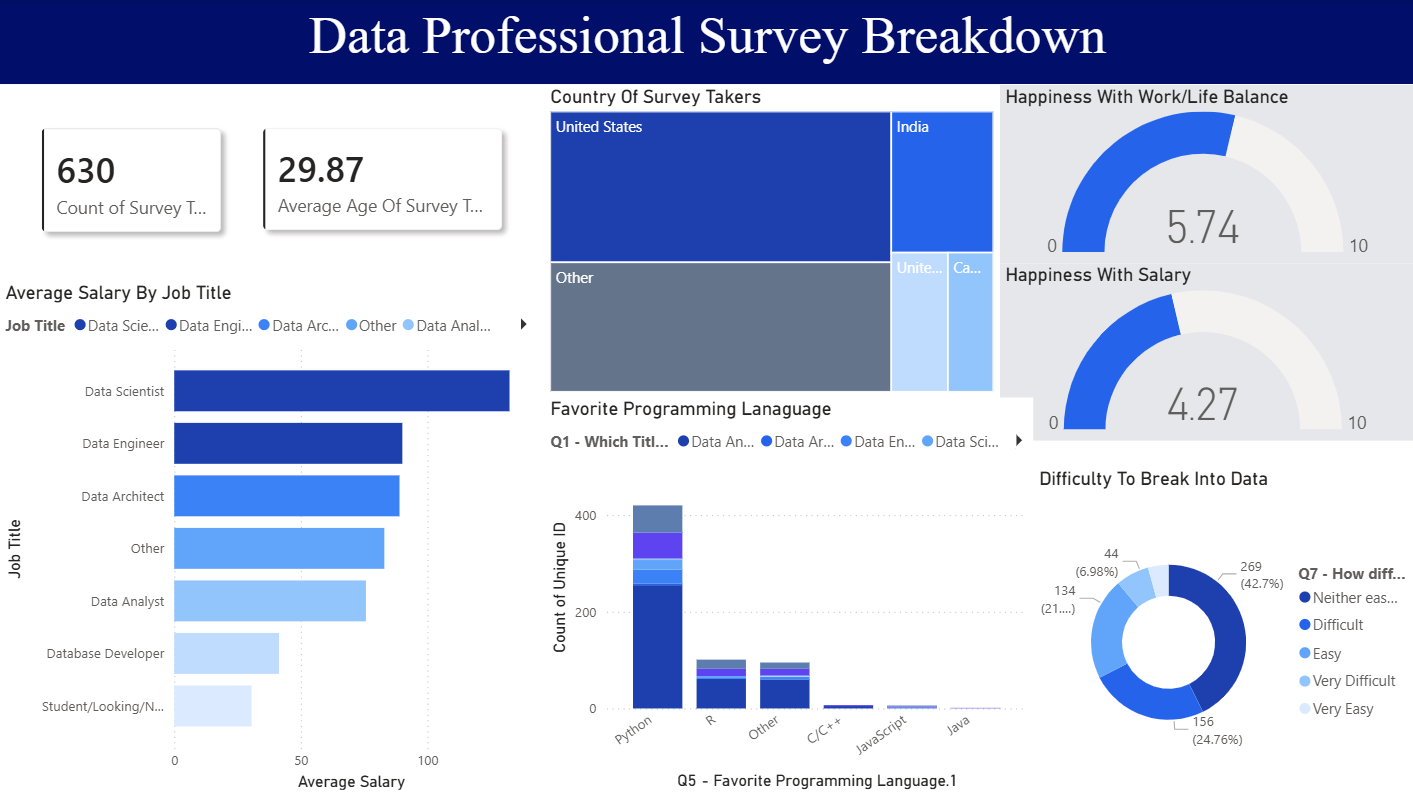

What the dashboard file says about the page in this screenshot:
{"tool":"powerbi","page":{"name":"Page 1","canvas":[1280,720],"ordinal":0},"visuals":[{"type":"textbox","box":[0,0,1279.9,75.8],"z":0},{"type":"cardVisual","fields":{"Data":["Count(Data Professional Survey.Unique ID)"]},"box":[9.3,86.7,220,152],"z":1000},{"type":"cardVisual","fields":{"Data":["Avg(Data Professional Survey.Q10 - Current Age)"]},"box":[209.3,86.7,274.7,150.7],"z":2000},{"type":"barChart","title":"Average Salary By Job Title","fields":{"Category":["Data Professional Survey.Q1 - Which Title Best Fits your Current Role?.1"],"Y":["Avg(Data Professional Survey.Averge_Salary)"],"Series":["Data Professional Survey.Q1 - Which Title Best Fits your Current Role?.1"]},"box":[0,254.7,493.3,465.3],"z":3000},{"type":"treemap","title":"Country Of Survey Takers","fields":{"Group":["Data Professional Survey.Q11 - Which Country do you live in?.1"],"Values":["CountNonNull(Data Professional Survey.Q11 - Which Country do you live in?.1)"]},"box":[493.3,77.3,410.7,282.7],"z":4000},{"type":"gauge","title":"Happiness With Work/Life Balance","fields":{"Y":["Avg(Data Professional Survey.Q6 - How Happy are you in your Current Position with the following? (Work/Life Balance))"],"MinValue":["Min(Data Professional Survey.Q6 - How Happy are you in your Current Position with the following? (Work/Life Balance))"],"MaxValue":["Max(Data Professional Survey.Q6 - How Happy are you in your Current Position with the following? (Work/Life Balance))"]},"box":[904,77.3,376,161.3],"z":5000},{"type":"gauge","title":"Happiness With Salary ","fields":{"Y":["Avg(Data Professional Survey.Q6 - How Happy are you in your Current Position with the following? (Salary))"],"MinValue":["Min(Data Professional Survey.Q6 - How Happy are you in your Current Position with the following? (Salary))"],"MaxValue":["Max(Data Professional Survey.Q6 - How Happy are you in your Current Position with the following? (Salary))1"]},"box":[904,238.7,376,160],"z":6000},{"type":"donutChart","title":"Difficulty To Break Into Data","fields":{"Category":["Data Professional Survey.Q7 - How difficult was it for you to break into Data?","Data Professional Survey.Q9 - Male/Female?"],"Y":["CountNonNull(Data Professional Survey.Q7 - How difficult was it for you to break into Data?)"]},"box":[934.7,422.7,345.3,297.3],"z":7000},{"type":"columnChart","title":"Favorite Programming Lanaguage","fields":{"Category":["Data Professional Survey.Q5 - Favorite Programming Language.1"],"Y":["CountNonNull(Data Professional Survey.Unique ID)"],"Series":["Data Professional Survey.Q1 - Which Title Best Fits your Current Role?.1"]},"box":[493.3,360,441.3,360],"z":8000}]}

Visuals, with their boxes in screenshot pixels (x1, y1, x2, y2), scaled from the page's 1280x720 canvas onto the 1413x795 screenshot:
textbox: bbox=(0, 0, 1412, 84)
cardVisual - Count(Data Professional Survey.Unique ID): bbox=(10, 96, 253, 264)
cardVisual - Avg(Data Professional Survey.Q10 - Current Age): bbox=(231, 96, 534, 262)
"Average Salary By Job Title" barChart: bbox=(0, 281, 545, 794)
"Country Of Survey Takers" treemap: bbox=(545, 85, 998, 398)
"Happiness With Work/Life Balance" gauge: bbox=(998, 85, 1412, 263)
"Happiness With Salary " gauge: bbox=(998, 264, 1412, 440)
"Difficulty To Break Into Data" donutChart: bbox=(1032, 467, 1412, 794)
"Favorite Programming Lanaguage" columnChart: bbox=(545, 398, 1032, 794)
